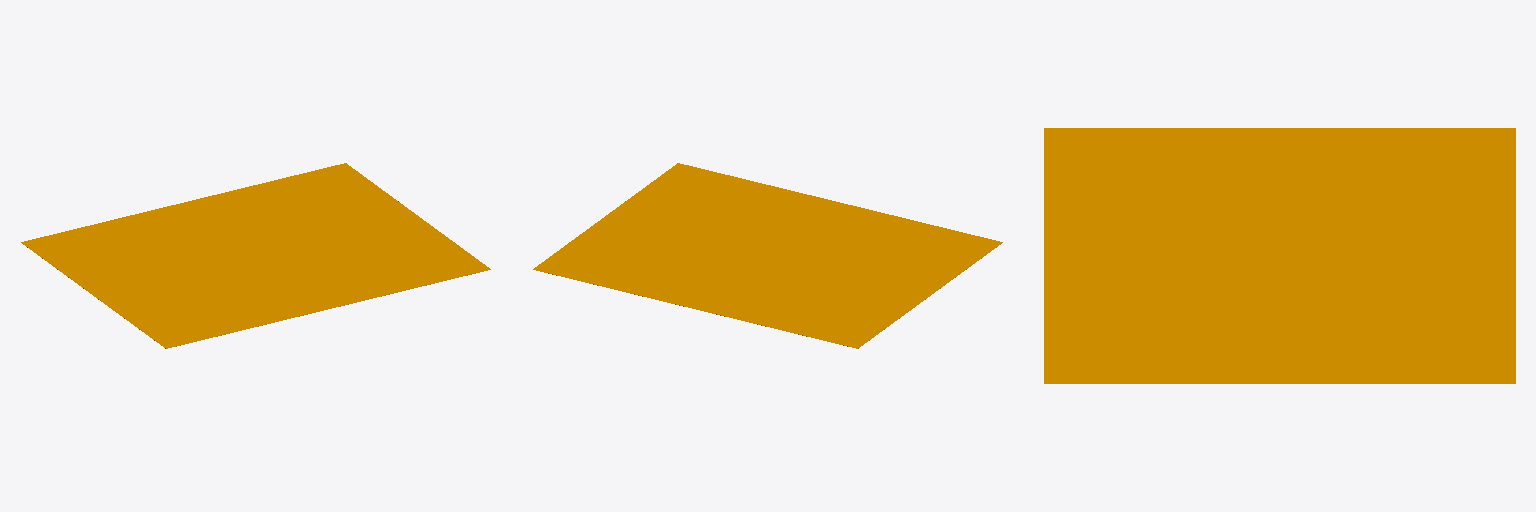
The robot description file, URDF, robot "FCS_lr":
<?xml version="1.0"?>
<robot xmlns:sensor="http://playerstage.sourceforge.net/gazebo/xmlschema/#sensor"
       xmlns:controller="http://playerstage.sourceforge.net/gazebo/xmlschema/#controller"
       xmlns:interface="http://playerstage.sourceforge.net/gazebo/xmlschema/#interface"
       xmlns:xacro="http://ros.org/wiki/xacro"
       name="FCS_lr">
       
<link name="FCS_lr">
     <inertial>
      <origin xyz="8 5 0.0505" rpy="0 0 0" /> 
      <mass value="2.0" />
      <inertia  ixx="1.0" ixy="0.0"  ixz="0.0"  iyy="100.0"  iyz="0.0"  izz="1.0" />
    </inertial>
    <visual>
      <origin xyz="8 5 0.0505" rpy="0 0 0" /> 
      <geometry>
        <box size="4.9 3.8 0.001" />
      </geometry>
    </visual>
    <collision name="FCS_lr">
     <origin xyz="8 5 0.0505" rpy="0 0 0" /> 
      <geometry>
       <box size="4.9 3.8 0.001" />
      </geometry>
    </collision>
  </link>
  <gazebo reference="FCS_lr">
    <material>Gazebo/LightWood</material>    
  </gazebo>
       
<gazebo reference="FCS_lr">
      <selfCollide>true</selfCollide>
      <sensor:contact name="FCS_lr">
        <geom>FCS_br_geom</geom>
        <updateRate>100.0</updateRate>
        <controller:gazebo_ros_bumper name="gazebo_ros_bumper_controller" plugin="libgazebo_ros_bumper.so">
          <alwaysOn>true</alwaysOn>
          <updateRate>100.0</updateRate>
          <bumperTopicName>/angen_contact/FCS/livingroom</bumperTopicName>
          <interface:bumper name="contact_bumper_iface" />
        </controller:gazebo_ros_bumper>
      </sensor:contact>
    </gazebo>
</robot>

--- What the picture shows (computed from the rendered views, not written in the file) ---
The picture shows the robot from 3 angles, left to right: view 1: azimuth 30°, elevation 25°; view 2: azimuth 150°, elevation 25°; view 3: azimuth 270°, elevation 25°; orthographic projection.
Model FCS_lr with 1 links and 0 joints (none), rooted at FCS_lr, posed all joints at 0.
Links seen in each view (by area): view 1: FCS_lr; view 2: FCS_lr; view 3: FCS_lr.
Boxes of the visible links, x1,y1,x2,y2 form: FCS_lr: [21, 163, 490, 348]; FCS_lr: [533, 163, 1002, 348]; FCS_lr: [1044, 128, 1515, 383].
Bounding box of the posed robot: 4.9 × 3.8 × 0.001 m (x, y, z).
Geometry: primitives only (box / cylinder / sphere), no mesh files.
